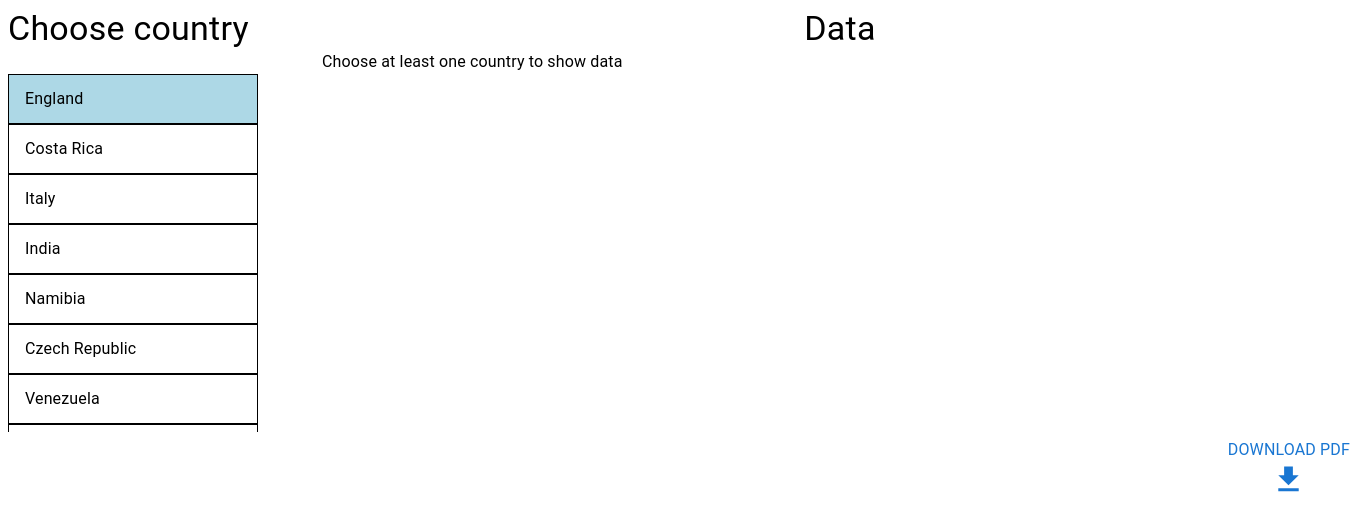
Home › Should remove country from table after user select country to be removed
Click the button with test id "countryItemList" showing "England".
click(133, 99)  # box [8,74,258,124]
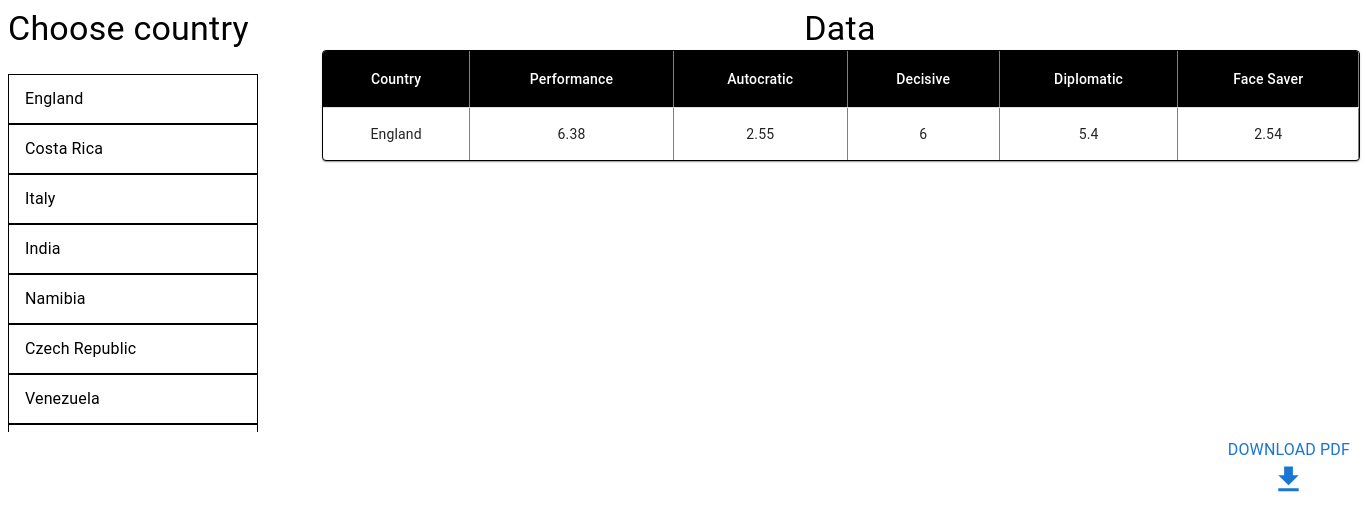
Click the button with test id "countryItemList" showing "Costa Rica".
click(133, 149)  # box [8,124,258,174]
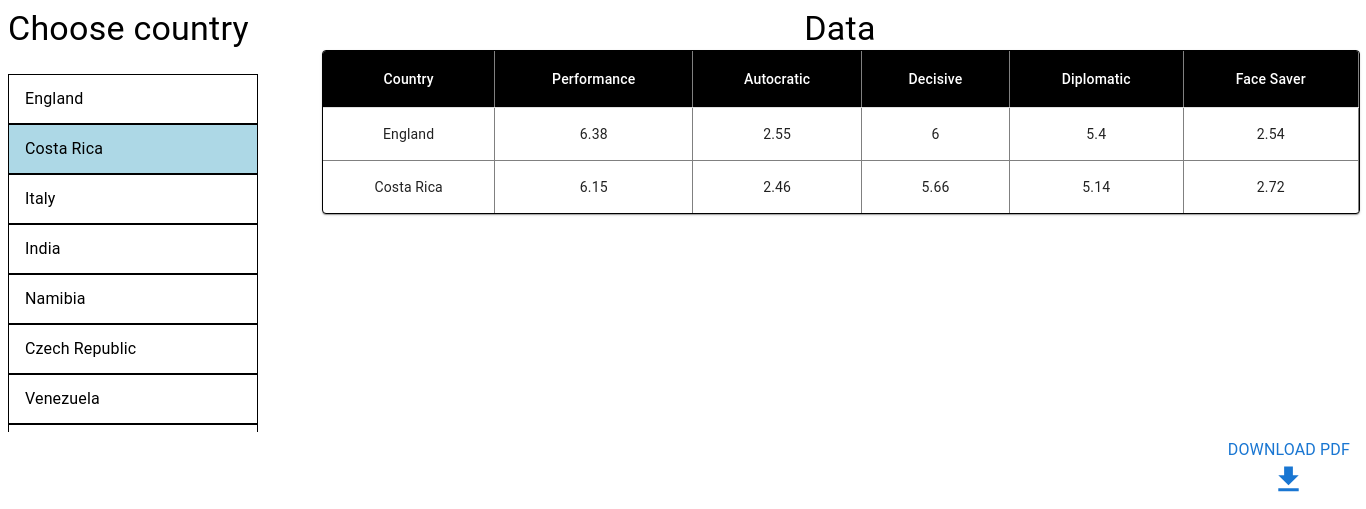
Click the button with test id "countryItemList" showing "Italy".
click(133, 199)  # box [8,174,258,224]
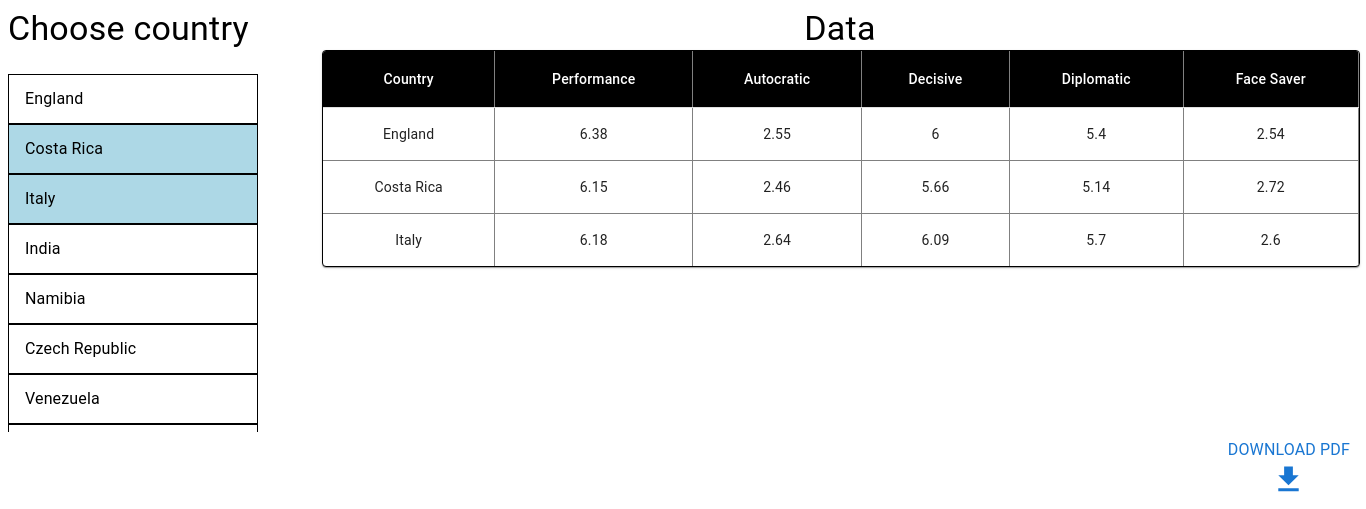
Expected: the element with test id "tableContainer" is shown, [322,50,1360,267]
Expected: the number of rows with test id "tableRow" is 3, [323,108,1358,160]; [323,160,1358,214]; [323,214,1358,266]
Click the button with test id "countryItemList" showing "Costa Rica".
click(133, 149)  # box [8,124,258,174]
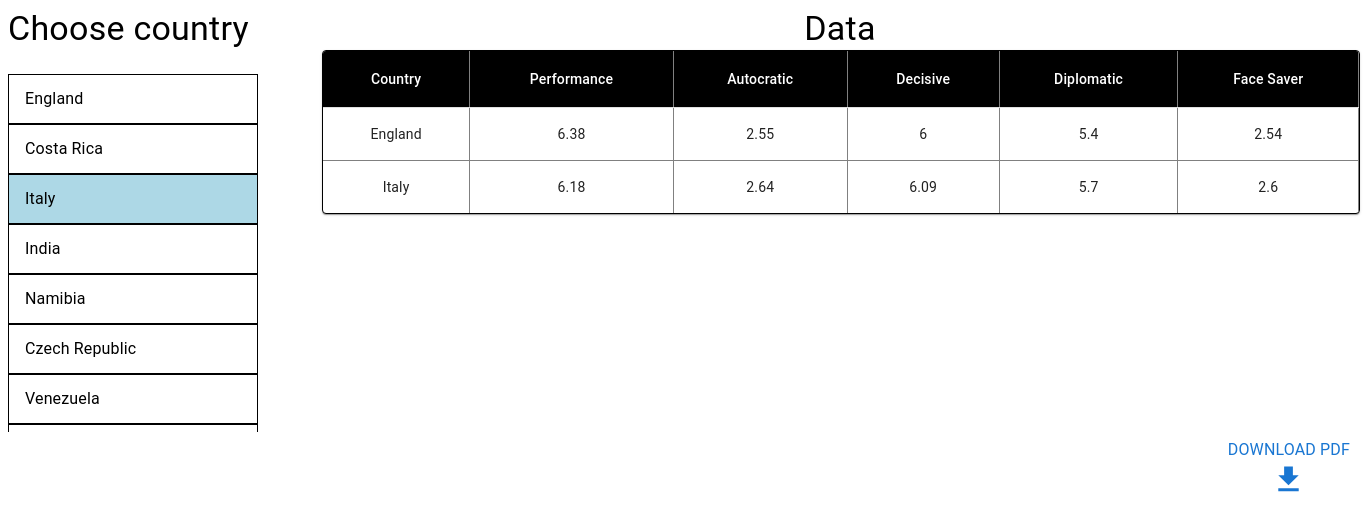
Expected: the number of rows with test id "tableRow" is 2, [323,108,1358,160]; [323,160,1358,213]
